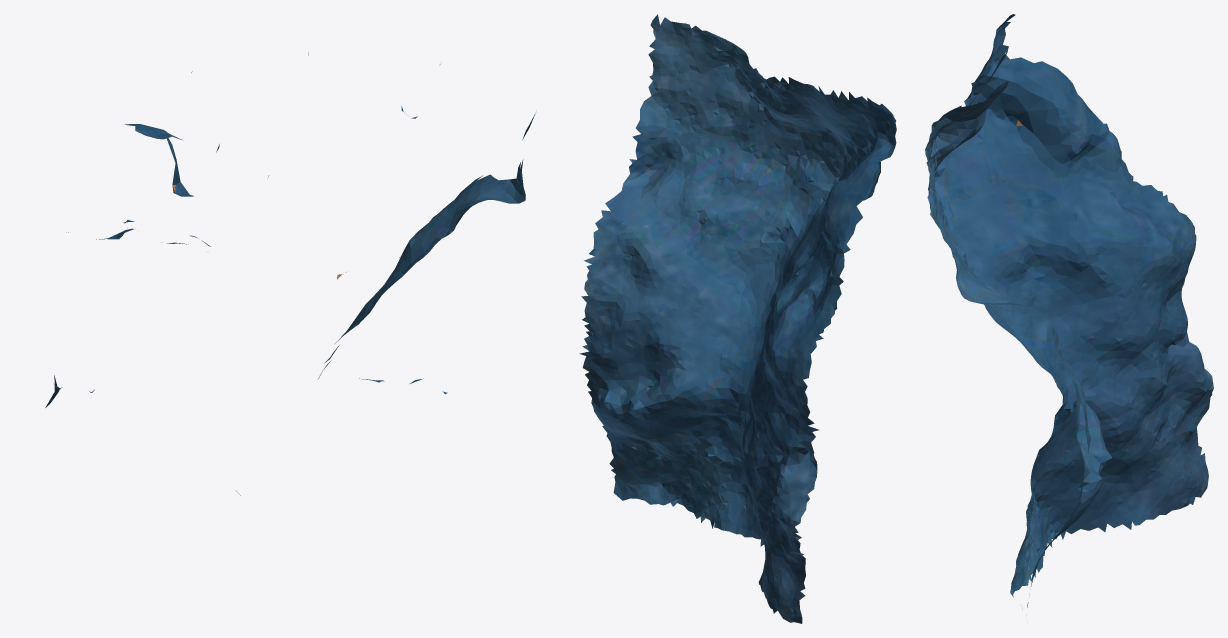
The model's file is tile_0119.gltf.
3 renders of one model, left to right at view 1: azimuth 30°, elevation 25°; view 2: azimuth 150°, elevation 25°; view 3: azimuth 270°, elevation 25°, orthographic. The views are drawn at different scales.
Parts seen in each view (by area): view 1: defaultobject; view 2: defaultobject; view 3: defaultobject.
Part boxes in pixels (<box>): defaultobject: <box>45,52,535,495</box>; defaultobject: <box>579,14,896,623</box>; defaultobject: <box>925,14,1213,609</box>.
Bounding box in the file's own units: 0.2881 × 0.4479 × 0.2418.
2 materials, 2 textured.
